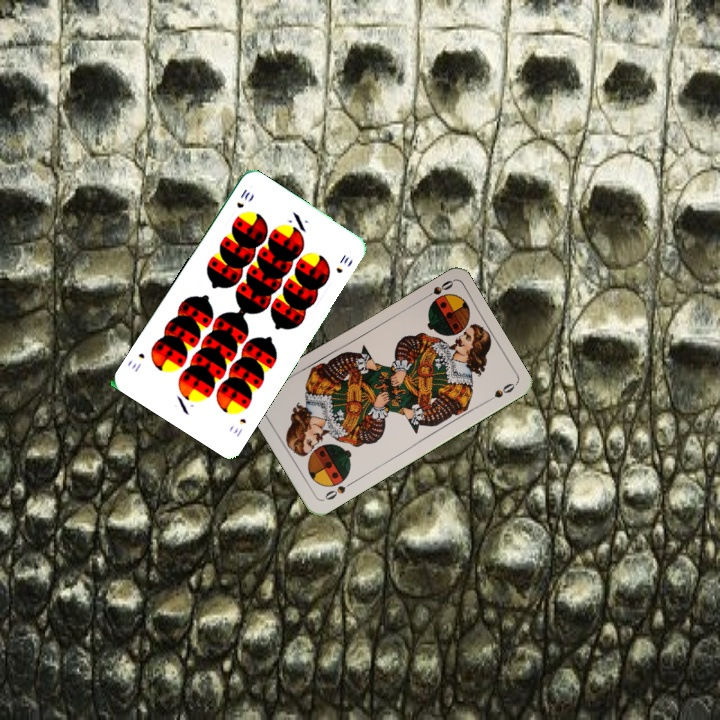S10: (232, 185, 253, 211), (229, 414, 249, 439)
SO: (418, 276, 456, 302), (321, 478, 356, 503)
